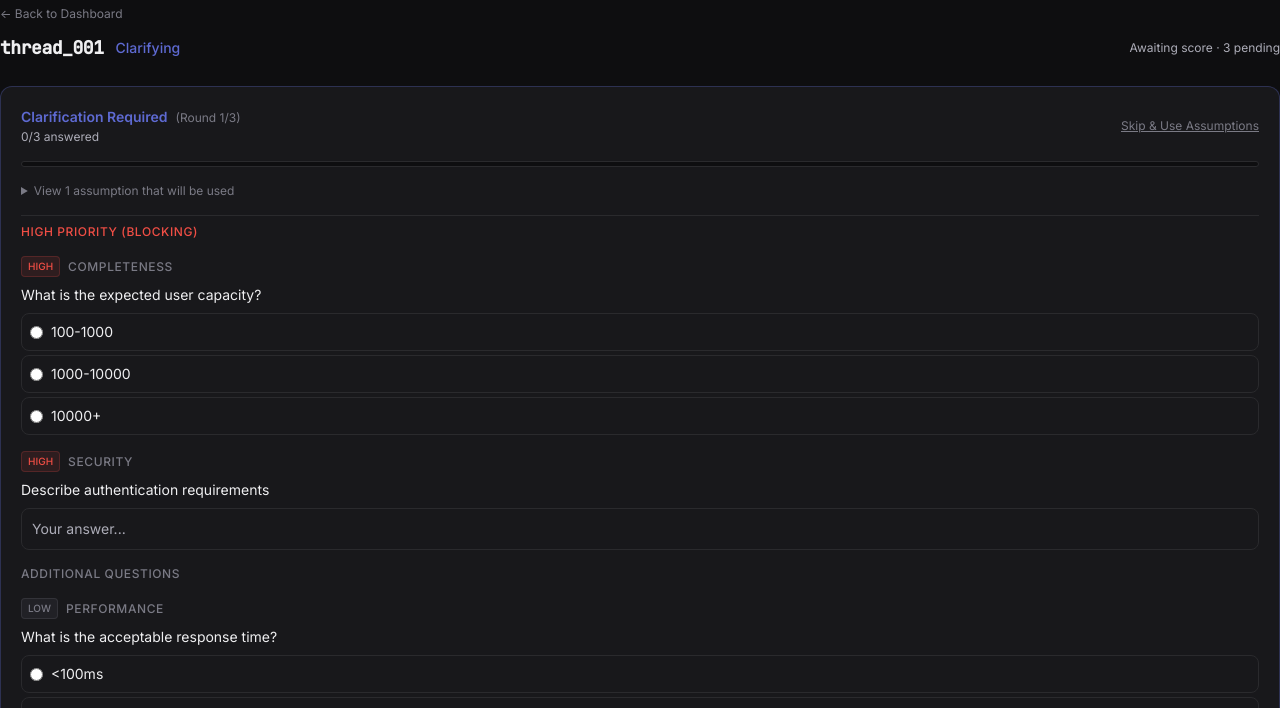
it: ExecutionPage › Assumptions › should show assumption content when expanded
This screenshot has width=1280, height=708.
Step 1. Click the heading "View 1 assumption that will be used" → (134, 190), box [34,183,234,198]
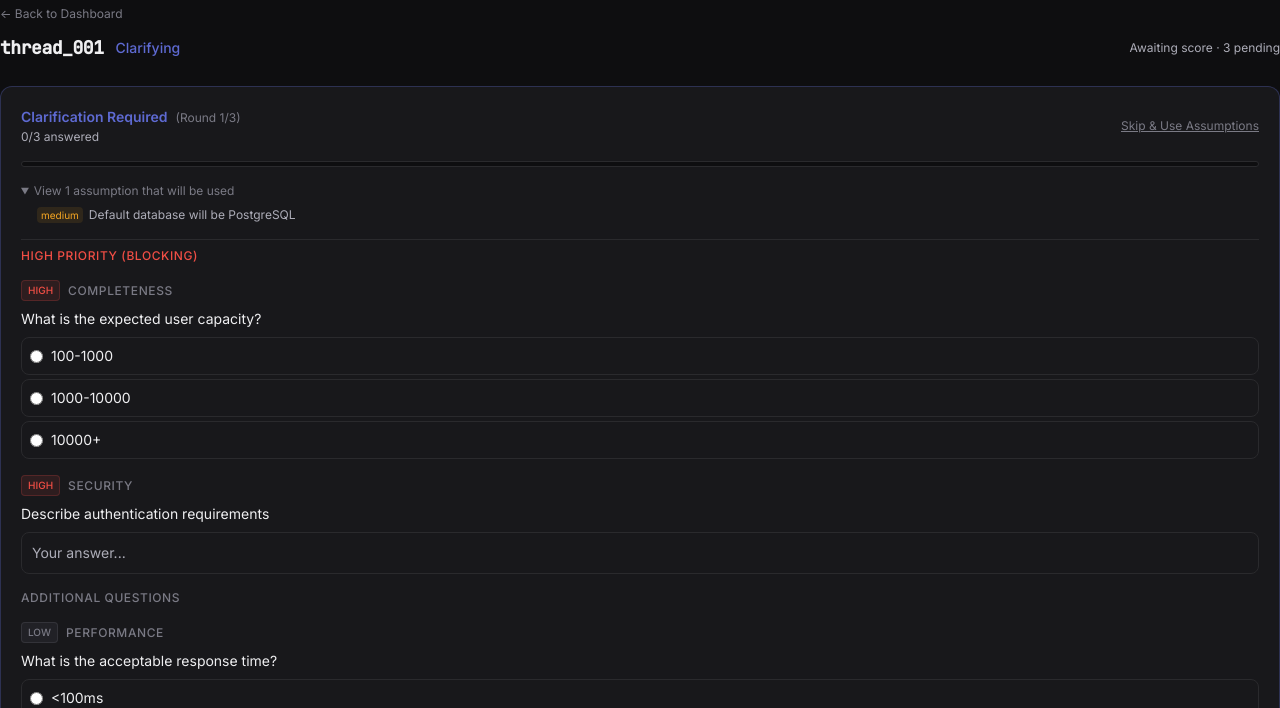
Expected: the text "Default database will be PostgreSQL" is shown, [89,207,296,223]
